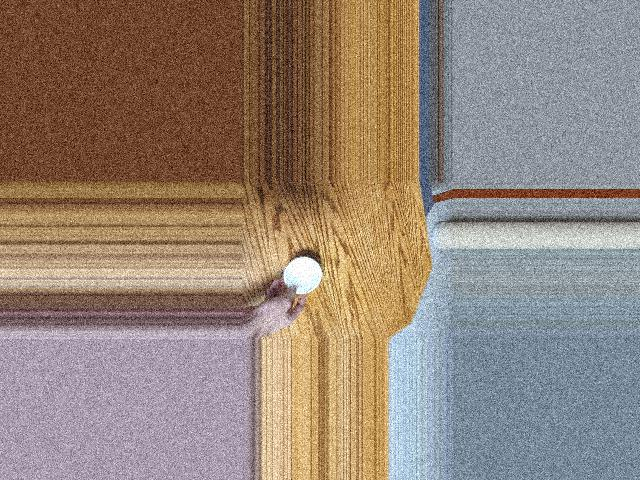cotage: (281, 256, 321, 295)
